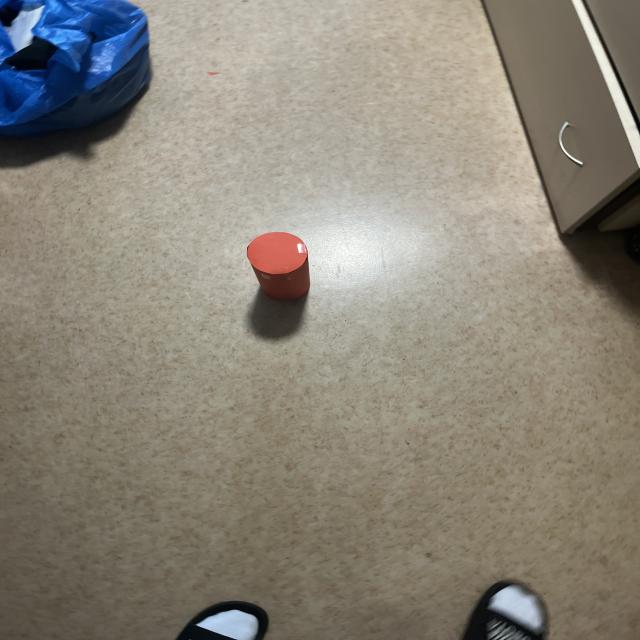przeszkoda: (247, 232, 310, 300)
